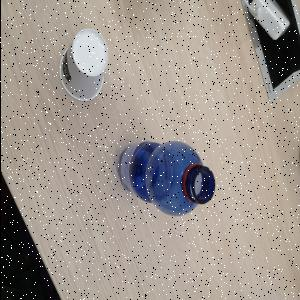Cup: (59, 29, 109, 103)
Plastic-bottle: (118, 142, 216, 218)
